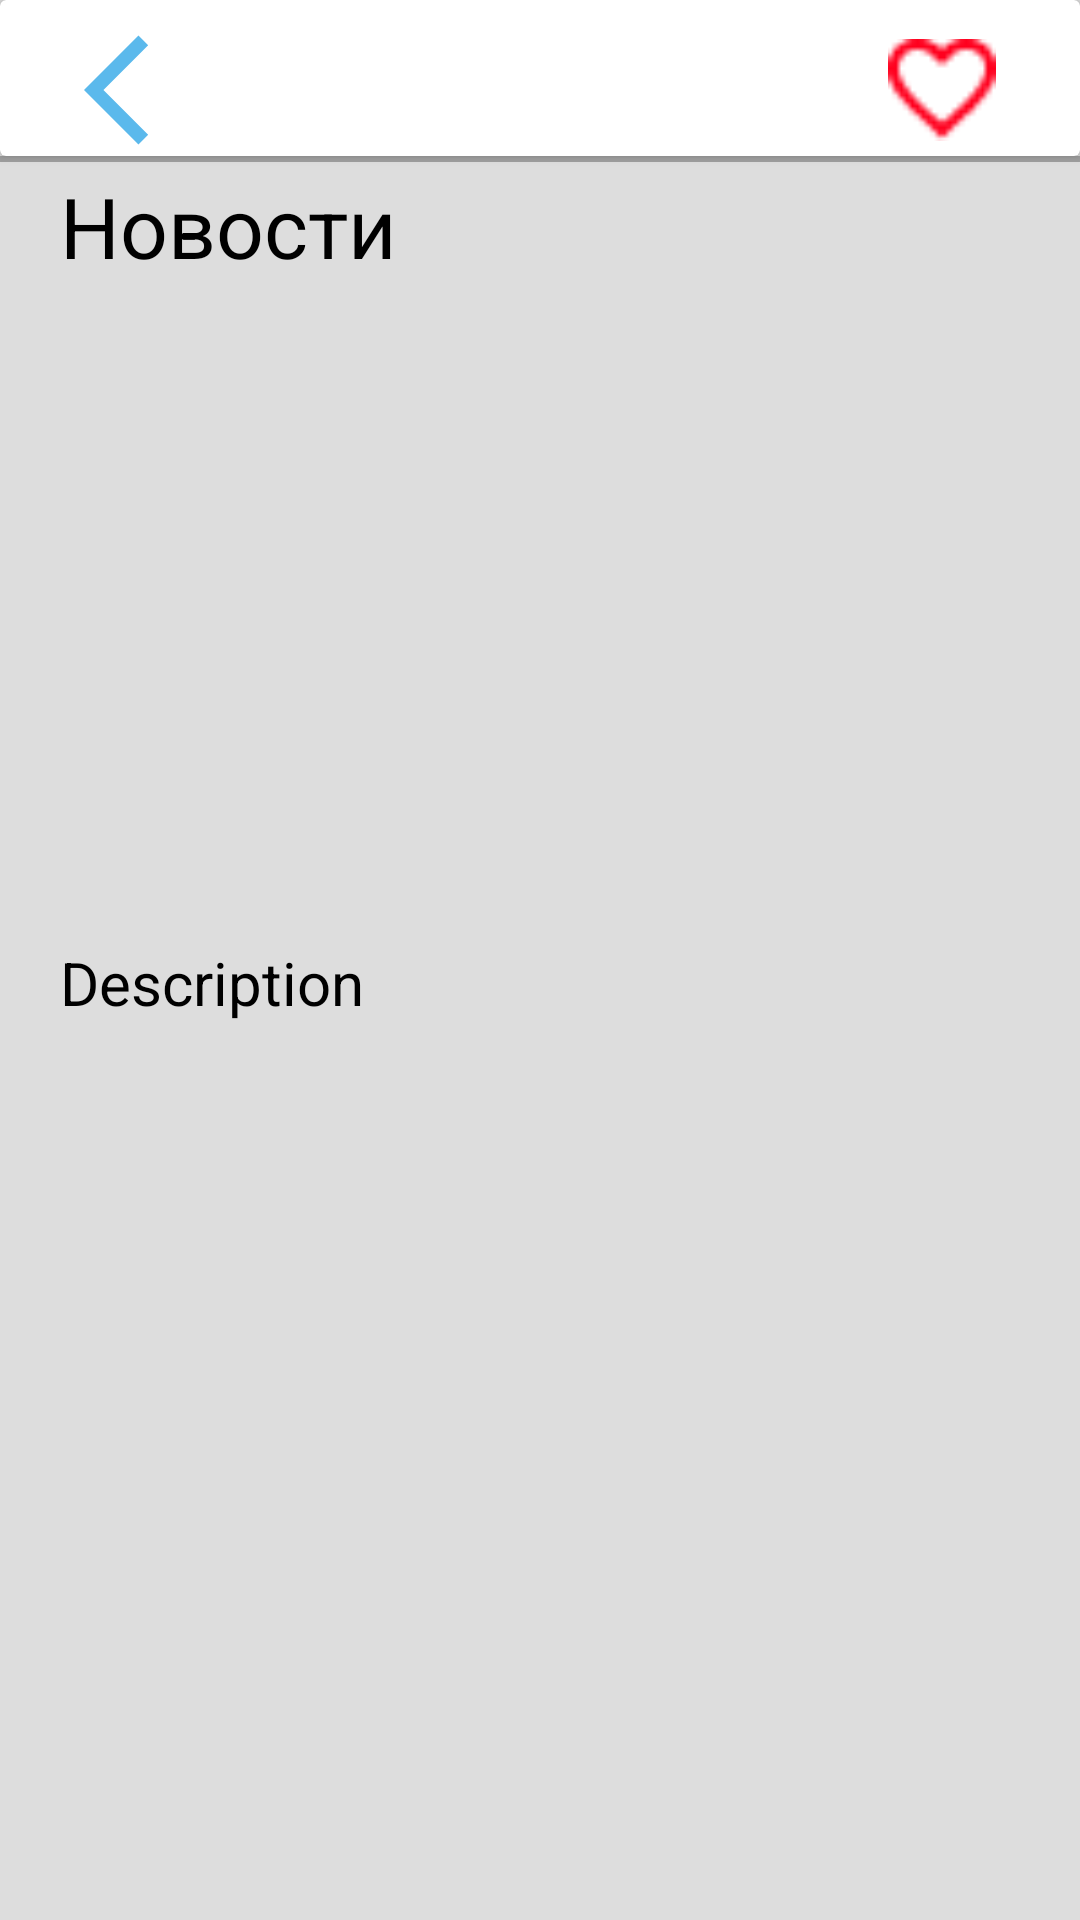

Locate icon controls on the screen. Image size 1080 × 1920, boxes as (x1, y1, x2, y2).
back to home: (84, 35, 148, 145)
like: (888, 39, 996, 141)
